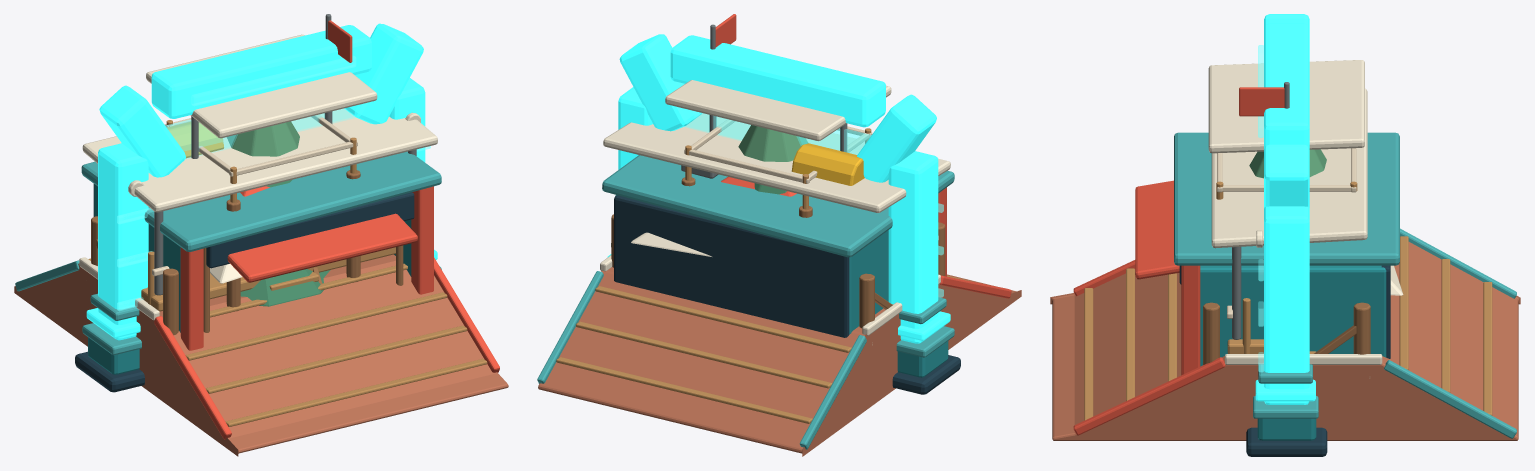
The model's file is canyon-kit-raw.glb.
3 views of the same model, side by side, from view 1: azimuth 30°, elevation 25°; view 2: azimuth 150°, elevation 25°; view 3: azimuth 270°, elevation 25° (orthographic). The views are drawn at different scales.
Visible parts, largest first — view 1: Ramp_DirtBody, Workshop_Roof, Stand_Canopy, Gate_Header, Gate_L_Post, Tower_Canopy, Workshop_Awning, Gate_L_Shoulder, Gate_R_Shoulder, Workshop_Header, Workshop_L_Corner, Workshop_R_Corner (+27 smaller); view 2: Ramp_DirtBody, Workshop_BackWall, Workshop_Roof, Gate_Header, Stand_Canopy, Gate_L_Post, Tower_Canopy, Gate_R_Shoulder, Gate_L_Shoulder, Workshop_L_Wall, Workshop_RoofTank, Gate_CoolingField (+18 smaller); view 3: Ramp_DirtBody, Workshop_Roof, Tower_Canopy, Workshop_R_Wall, Stand_Canopy, Gate_R_Post, Gate_Header, Workshop_Awning, Gate_R_Shoulder, Workshop_R_Corner, Ramp_R_TakeoffRail, Ramp_R_LandingRail (+22 smaller).
Boxes of the visible parts, left/top/right/bottom form: Ramp_DirtBody: left=14, top=254, right=508, bottom=456; Workshop_Roof: left=81, top=151, right=441, bottom=251; Stand_Canopy: left=82, top=108, right=437, bottom=212; Gate_Header: left=151, top=25, right=371, bottom=118; Gate_L_Post: left=98, top=143, right=148, bottom=340; Tower_Canopy: left=146, top=34, right=377, bottom=138; Workshop_Awning: left=227, top=213, right=417, bottom=282; Gate_L_Shoulder: left=99, top=85, right=185, bottom=177; Gate_R_Shoulder: left=344, top=23, right=423, bottom=124; Workshop_Header: left=206, top=192, right=414, bottom=268; Workshop_L_Corner: left=180, top=247, right=203, bottom=350; Workshop_R_Corner: left=411, top=186, right=433, bottom=294; Ramp_DirtBody: left=538, top=267, right=1021, bottom=456; Workshop_BackWall: left=614, top=195, right=849, bottom=337; Workshop_Roof: left=602, top=155, right=954, bottom=257; Gate_Header: left=670, top=35, right=885, bottom=127; Stand_Canopy: left=603, top=113, right=950, bottom=212; Gate_L_Post: left=888, top=151, right=938, bottom=343; Tower_Canopy: left=665, top=80, right=891, bottom=141; Gate_R_Shoulder: left=619, top=34, right=702, bottom=131; Gate_L_Shoulder: left=857, top=94, right=936, bottom=182; Workshop_L_Wall: left=849, top=230, right=888, bottom=334; Workshop_RoofTank: left=791, top=143, right=864, bottom=185; Gate_CoolingField: left=685, top=111, right=871, bottom=154; Ramp_DirtBody: left=1050, top=242, right=1520, bottom=440; Workshop_Roof: left=1174, top=132, right=1399, bottom=265; Tower_Canopy: left=1208, top=60, right=1364, bottom=153; Workshop_R_Wall: left=1200, top=265, right=1386, bottom=366; Stand_Canopy: left=1211, top=88, right=1367, bottom=248; Gate_R_Post: left=1264, top=206, right=1309, bottom=404; Gate_Header: left=1264, top=23, right=1309, bottom=149; Workshop_Awning: left=1135, top=180, right=1179, bottom=279; Gate_R_Shoulder: left=1264, top=144, right=1309, bottom=208; Workshop_R_Corner: left=1181, top=265, right=1200, bottom=375; Ramp_R_TakeoffRail: left=1073, top=357, right=1225, bottom=435; Ramp_R_LandingRail: left=1384, top=360, right=1516, bottom=438.
Size of the model in its own units: 7.35 by 6.52 by 8.42.
